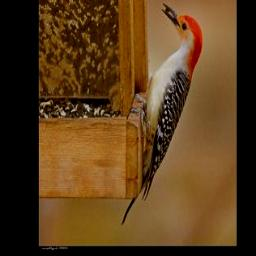Woodpecker: (122, 2, 203, 225)
